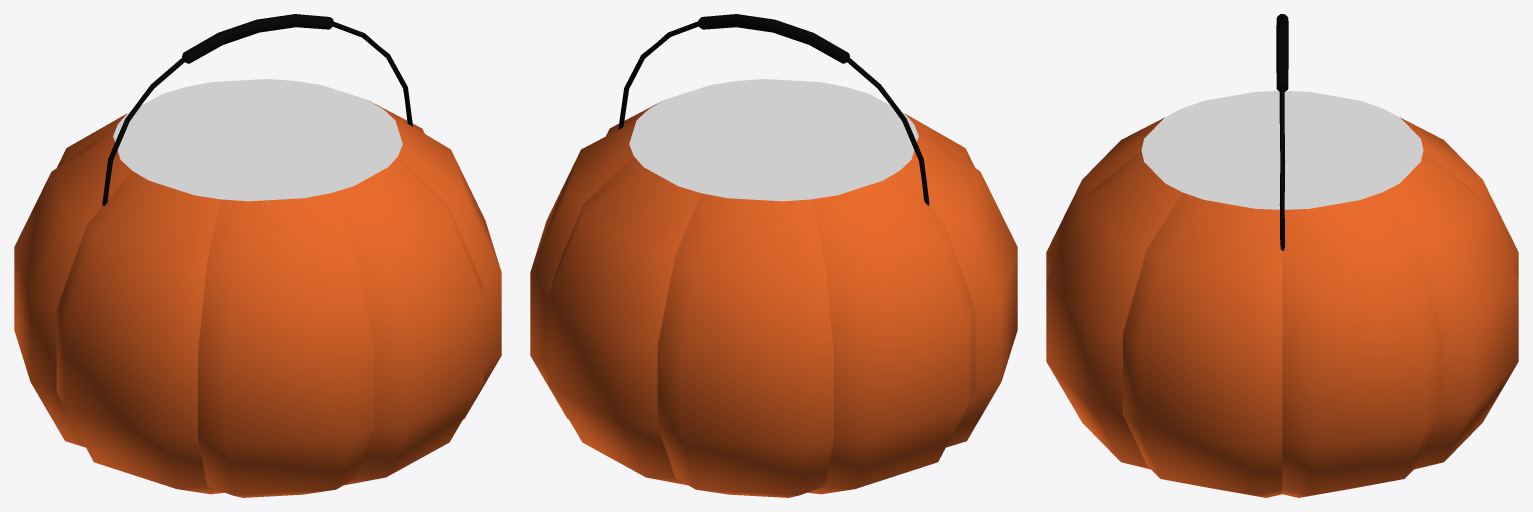
The model's file is PumpkinPail.fbx.
3 views of the same model, side by side, from view 1: azimuth 30°, elevation 25°; view 2: azimuth 150°, elevation 25°; view 3: azimuth 270°, elevation 25° (orthographic). The views are drawn at different scales.
Parts seen in each view (by area): view 1: Pail, Lid, Handle; view 2: Pail, Lid, Handle; view 3: Pail, Lid, Handle.
Boxes of the visible parts, left/top/right/bottom form: Pail: left=14, top=101, right=501, bottom=497; Lid: left=113, top=79, right=402, bottom=201; Handle: left=102, top=14, right=412, bottom=205; Pail: left=530, top=101, right=1017, bottom=497; Lid: left=629, top=79, right=918, bottom=201; Handle: left=618, top=14, right=929, bottom=205; Pail: left=1046, top=117, right=1518, bottom=497; Lid: left=1141, top=91, right=1423, bottom=209; Handle: left=1276, top=14, right=1288, bottom=250.
Size of the model in its own units: 1.65 by 1.65 by 1.65.
